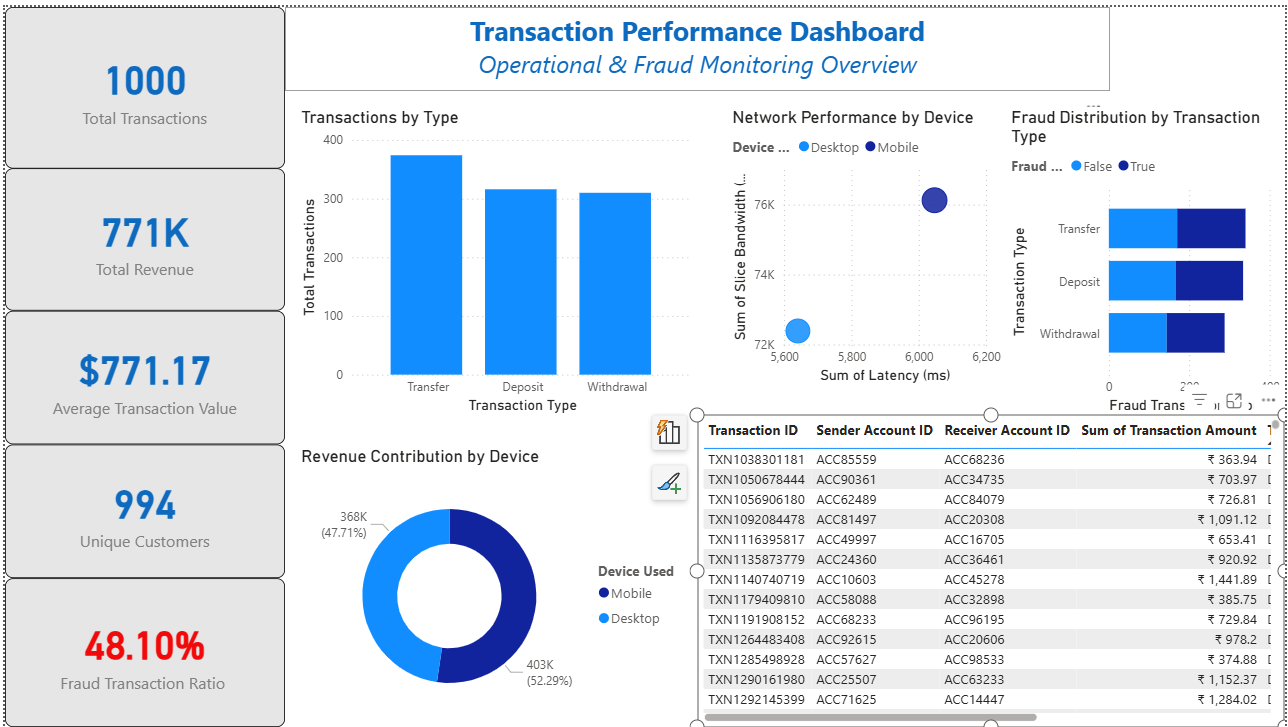

What the dashboard file says about the page in this screenshot:
{"tool":"powerbi","page":{"name":"Page 1","canvas":[1280,720],"ordinal":0},"visuals":[{"type":"card","fields":{"Values":["transaction_data.Total Transactions"]},"box":[0,0,280,161.2],"z":0},{"type":"card","fields":{"Values":["transaction_data.Total Revenue"]},"box":[0,161.2,280,142.5],"z":1000},{"type":"card","fields":{"Values":["transaction_data.Average Transaction Value"]},"box":[0,303.8,280,133.8],"z":2000},{"type":"card","fields":{"Values":["transaction_data.Unique Customers"]},"box":[0,437.5,280,133.8],"z":3000},{"type":"card","fields":{"Values":["transaction_data.Fraud Percentage"]},"box":[0,571.2,280,148.8],"z":4000},{"type":"textbox","box":[280,0,825,83.8],"z":5000},{"type":"clusteredColumnChart","title":"Transactions by Type","fields":{"Category":["transaction_data.Transaction Type"],"Y":["transaction_data.Total Transactions"]},"box":[291.7,100,401.7,311.7],"z":6000},{"type":"donutChart","title":"Revenue Contribution by Device","fields":{"Category":["transaction_data.Device Used"],"Y":["transaction_data.Total Revenue"]},"box":[291.7,438.3,401.7,281.7],"z":7000},{"type":"barChart","title":"Fraud Distribution by Transaction Type","fields":{"Category":["transaction_data.Transaction Type"],"Y":["transaction_data.Fraud Transactions Count"],"Series":["transaction_data.Fraud Flag"]},"box":[1001.4,100,278.6,311.4],"z":8000},{"type":"scatterChart","title":"Network Performance by Device","fields":{"X":["Sum(transaction_data.Latency (ms))"],"Y":["Sum(transaction_data.Slice Bandwidth (Mbps))"],"Size":["transaction_data.Total Transactions"],"Series":["transaction_data.Device Used"]},"box":[722.5,100,278.8,281.2],"z":9000},{"type":"tableEx","fields":{"Values":["transaction_data.Transaction ID","transaction_data.Sender Account ID","transaction_data.Receiver Account ID","Sum(transaction_data.Transaction Amount)","transaction_data.Transaction Type","transaction_data.Transaction Status","transaction_data.Fraud Flag","transaction_data.Device Used"]},"box":[692.5,407.5,587.5,312.5],"z":10000}]}

Visuals, with their boxes in screenshot pixels (x1, y1, x2, y2), scaled from the page's 1280x720 canvas onto the 1288x727 screenshot:
card - transaction_data.Total Transactions: box(0, 0, 282, 163)
card - transaction_data.Total Revenue: box(0, 163, 282, 307)
card - transaction_data.Average Transaction Value: box(0, 307, 282, 442)
card - transaction_data.Unique Customers: box(0, 442, 282, 577)
card - transaction_data.Fraud Percentage: box(0, 577, 282, 726)
textbox: box(282, 0, 1112, 85)
"Transactions by Type" clusteredColumnChart: box(294, 101, 698, 416)
"Revenue Contribution by Device" donutChart: box(294, 443, 698, 726)
"Fraud Distribution by Transaction Type" barChart: box(1008, 101, 1287, 415)
"Network Performance by Device" scatterChart: box(727, 101, 1008, 385)
tableEx - transaction_data.Transaction ID x transaction_data.Sender Account ID: box(697, 411, 1287, 726)
